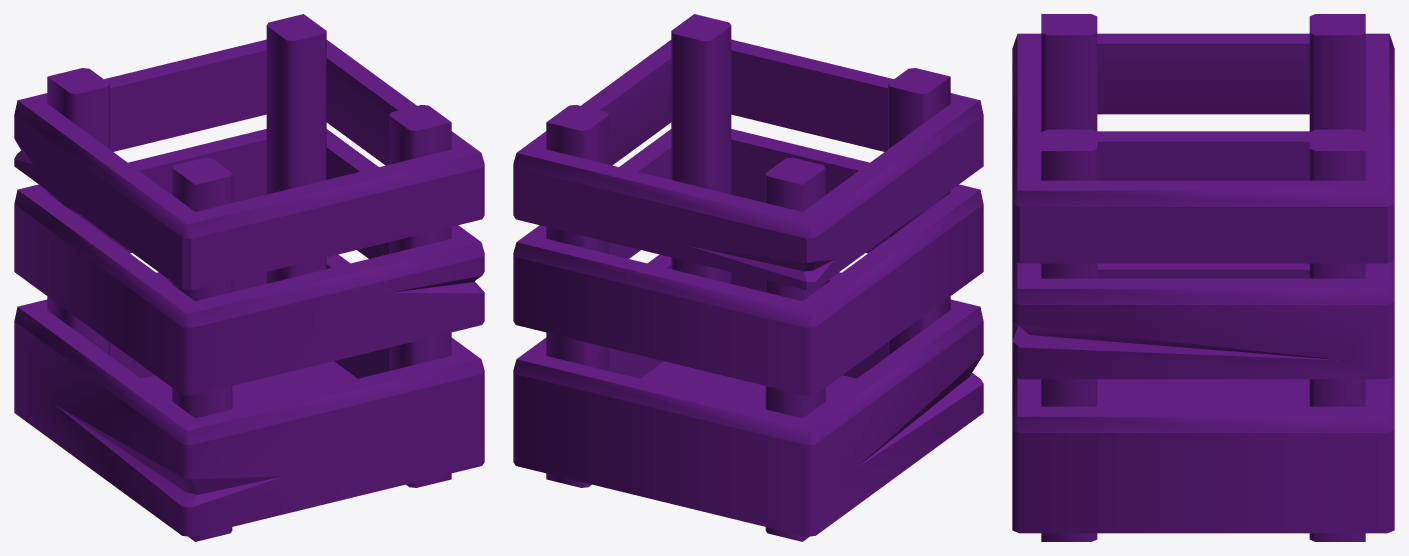
Rendered from crate2.FBX.
3 views of the same model, side by side, from view 1: azimuth 30°, elevation 25°; view 2: azimuth 150°, elevation 25°; view 3: azimuth 270°, elevation 25° (orthographic). The views are drawn at different scales.
Parts seen in each view (by area): view 1: Box008; view 2: Box008; view 3: Box008.
Boxes of the visible parts, bbox=[...] form: Box008: bbox=[14, 14, 484, 541]; Box008: bbox=[513, 14, 983, 541]; Box008: bbox=[1012, 14, 1394, 541].
Size of the model in its own units: 63.03 by 71.13 by 63.03.
